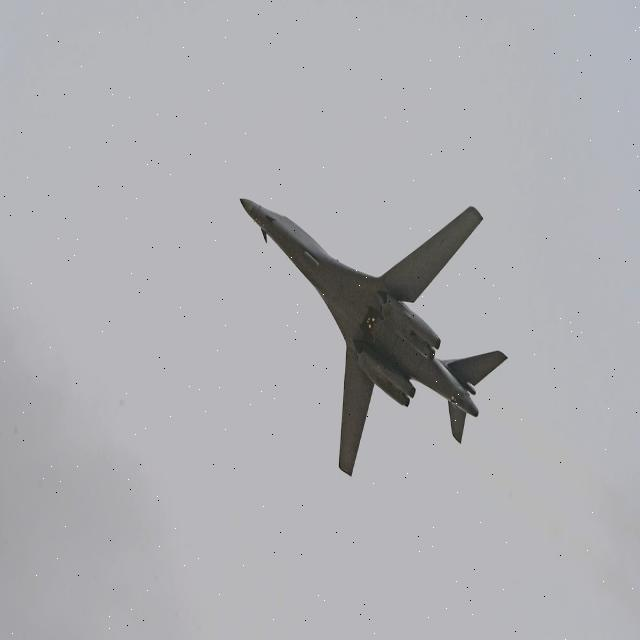B1: (215, 155, 527, 530)
